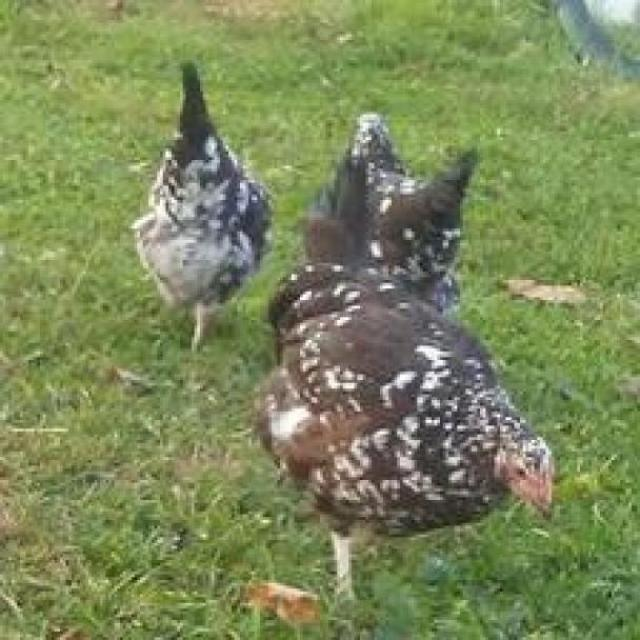Chicken: (290, 114, 569, 640)
